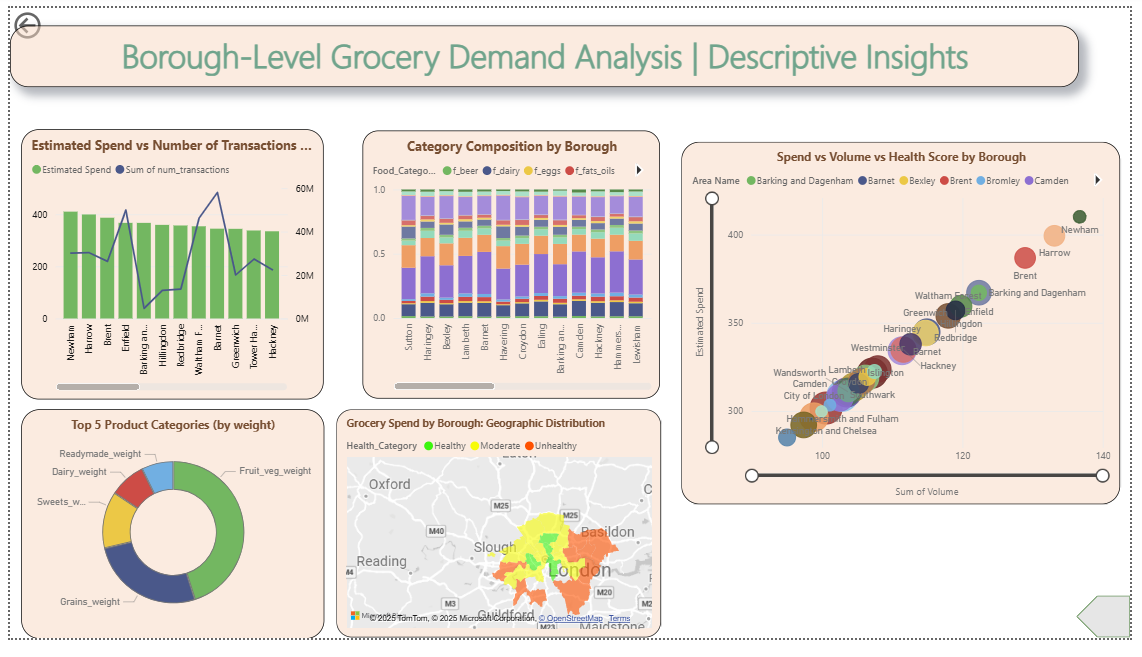

Layout of this report page (visuals, bound fields, positions):
{"tool":"powerbi","page":{"name":"Descriptive Insights","canvas":[1280,720],"ordinal":1},"visuals":[{"type":"filledMap","title":"Grocery Spend by Borough: Geographic Distribution","fields":{"Category":["year_borough_grocery.Area Name"],"Series":["year_borough_grocery.Health_Category"]},"box":[372.5,458.6,371.2,260.9],"z":0},{"type":"actionButton","box":[0,0,100,40],"z":1000},{"type":"textbox","title":"Borough-Level Grocery Demand Analysis | Descriptive Insights","box":[0,20,1221.2,70],"z":2000},{"type":"lineClusteredColumnComboChart","title":"Estimated Spend vs Number of Transactions by Borough","fields":{"Category":["year_borough_grocery.Area Name"],"Y":["FruitSweetlookup.Estimated Spend"],"Y2":["Sum(year_borough_grocery.num_transactions)"]},"box":[12.9,138.6,345.7,308.6],"z":3000},{"type":"columnChart","title":"Category Composition by Borough","fields":{"Y":["Sum(Food_Category.FC_Quantity)"],"Category":["Food_Category.Area Name"],"Series":["Food_Category.Food_Category"]},"box":[403.4,139.9,340.2,306.6],"z":4000},{"type":"donutChart","title":"Top 5 Product Categories (by weight)","fields":{"Category":["Food_weight_category.Custom"],"Y":["Sum(Food_weight_category.FWC_weight)"]},"box":[13,458,346,262],"z":5000},{"type":"scatterChart","title":"Spend vs Volume vs Health Score by Borough","fields":{"X":["Sum(year_borough_grocery.Volume)"],"Y":["FruitSweetlookup.Estimated Spend"],"Size":["Avg(year_borough_grocery.Health Score )"],"Series":["year_borough_grocery.Area Name"]},"box":[766.6,153.3,501.6,414.2],"z":6000},{"type":"shape","box":[1218.3,672,61.7,48],"z":7000}]}

Visuals, with their boxes in screenshot pixels (x1, y1, x2, y2), scaled from the page's 1280x720 canvas onto the 1142x657 screenshot:
"Grocery Spend by Borough: Geographic Distribution" filledMap: {"left": 332, "top": 418, "right": 664, "bottom": 656}
actionButton: {"left": 0, "top": 0, "right": 89, "bottom": 36}
"Borough-Level Grocery Demand Analysis | Descriptive Insights" textbox: {"left": 0, "top": 18, "right": 1090, "bottom": 82}
"Estimated Spend vs Number of Transactions by Borough" lineClusteredColumnComboChart: {"left": 12, "top": 126, "right": 320, "bottom": 408}
"Category Composition by Borough" columnChart: {"left": 360, "top": 128, "right": 663, "bottom": 407}
"Top 5 Product Categories (by weight)" donutChart: {"left": 12, "top": 418, "right": 320, "bottom": 656}
"Spend vs Volume vs Health Score by Borough" scatterChart: {"left": 684, "top": 140, "right": 1131, "bottom": 518}
shape: {"left": 1087, "top": 613, "right": 1141, "bottom": 656}
